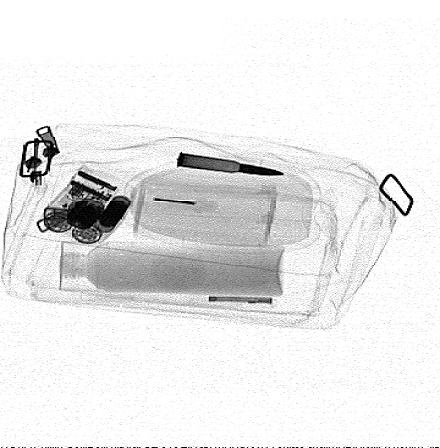Bullet: (176, 152, 288, 176)
